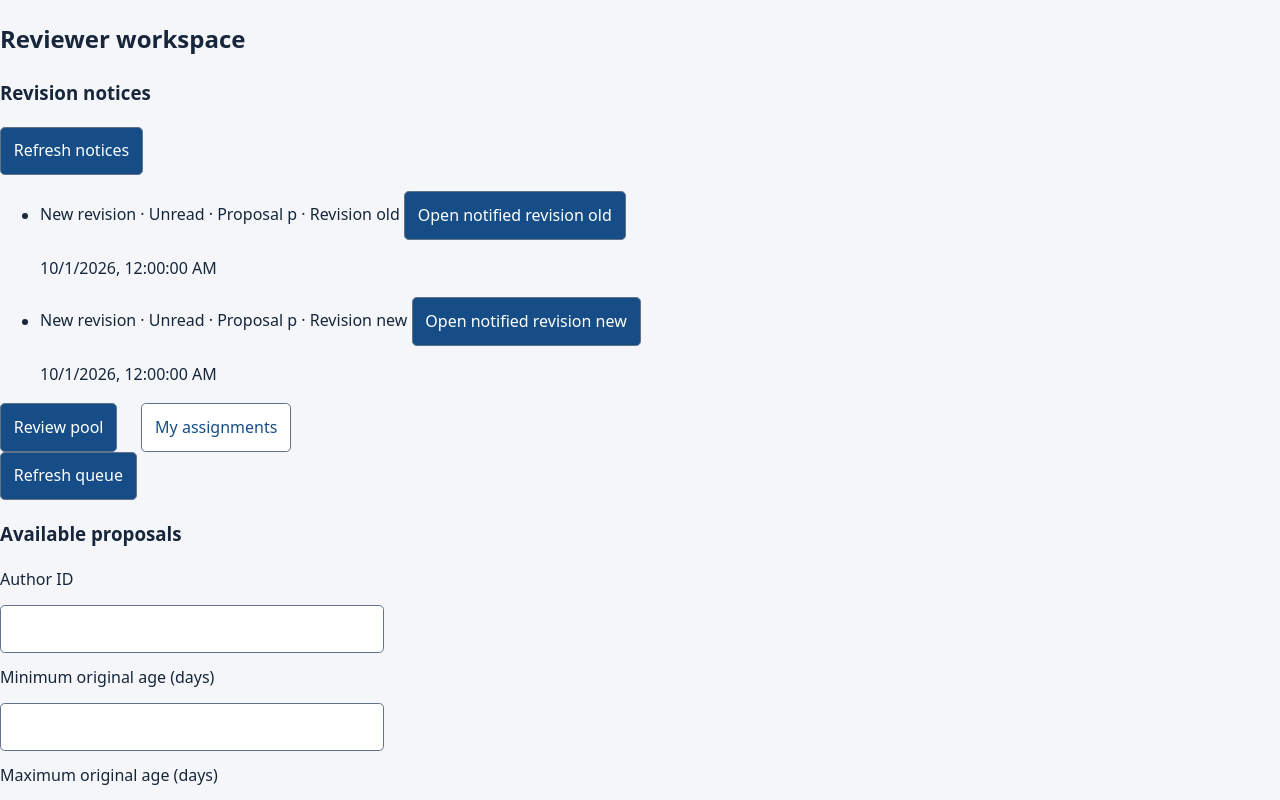
Test: clears protected forms when a safe withdrawal notice arrives, with no content link
Click the button "Open notified revision old" at (515, 215), box [404,191,626,240]
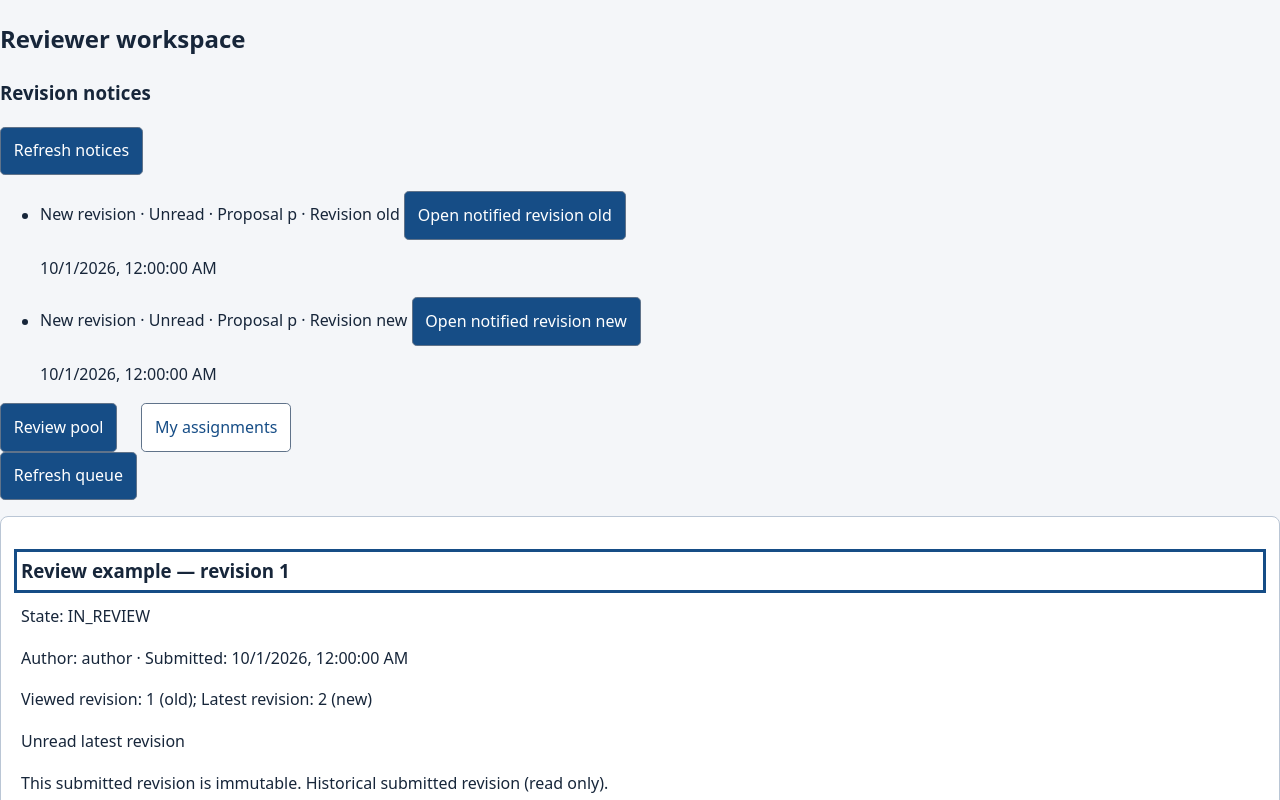
Click the button "Refresh notices" at (72, 151), box [0,127,143,175]
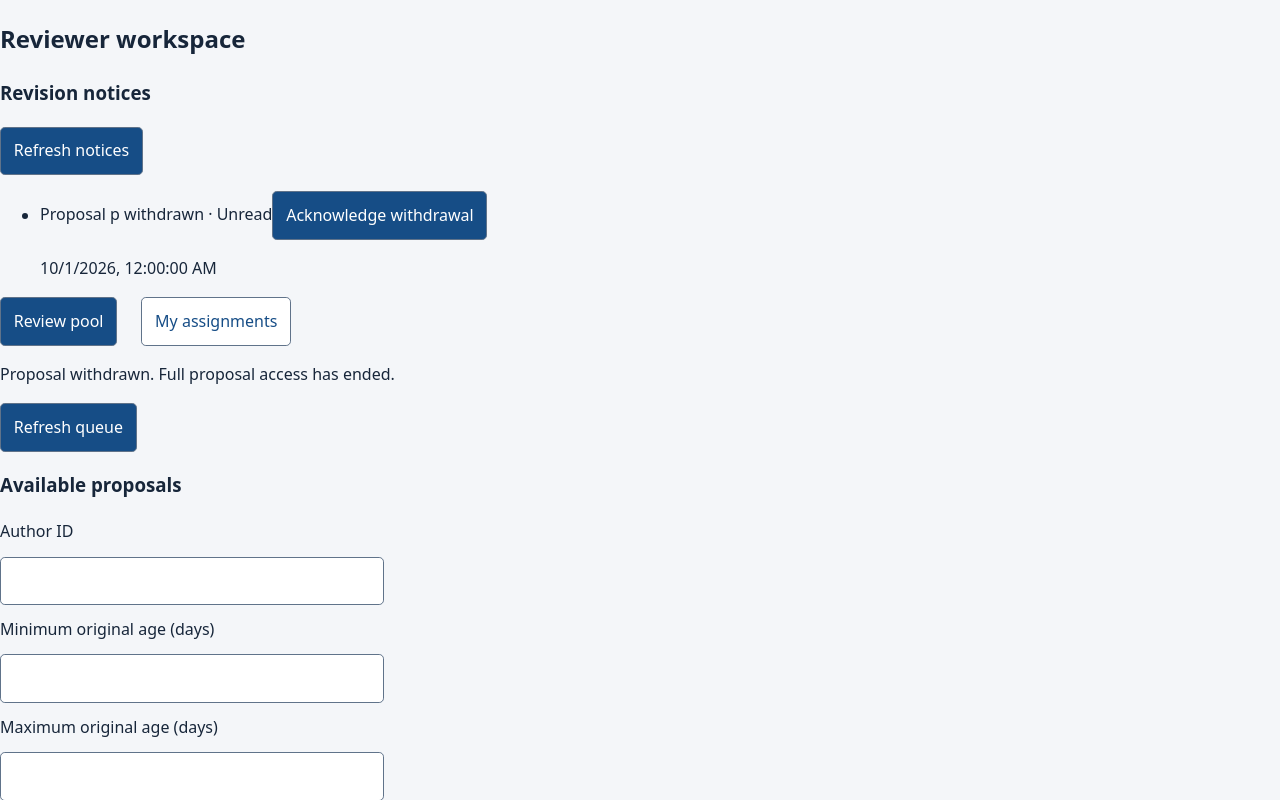
expect the text "Proposal withdrawn. Full proposal access has ended." is shown: met, box [0,363,395,385]
expect the button "Open notified revision" is gone: met
